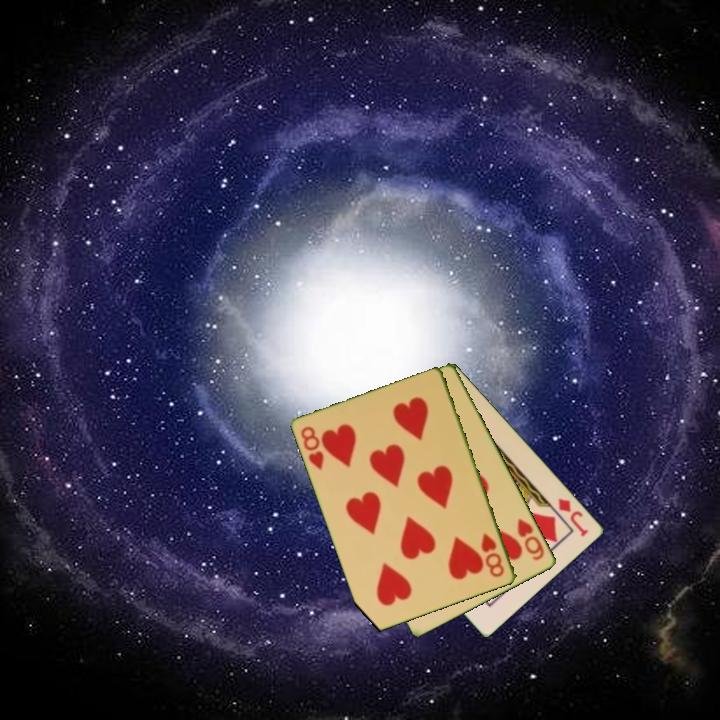6h: (514, 515, 548, 563)
8h: (478, 530, 508, 580), (298, 423, 327, 473)
Jd: (555, 494, 591, 540)
